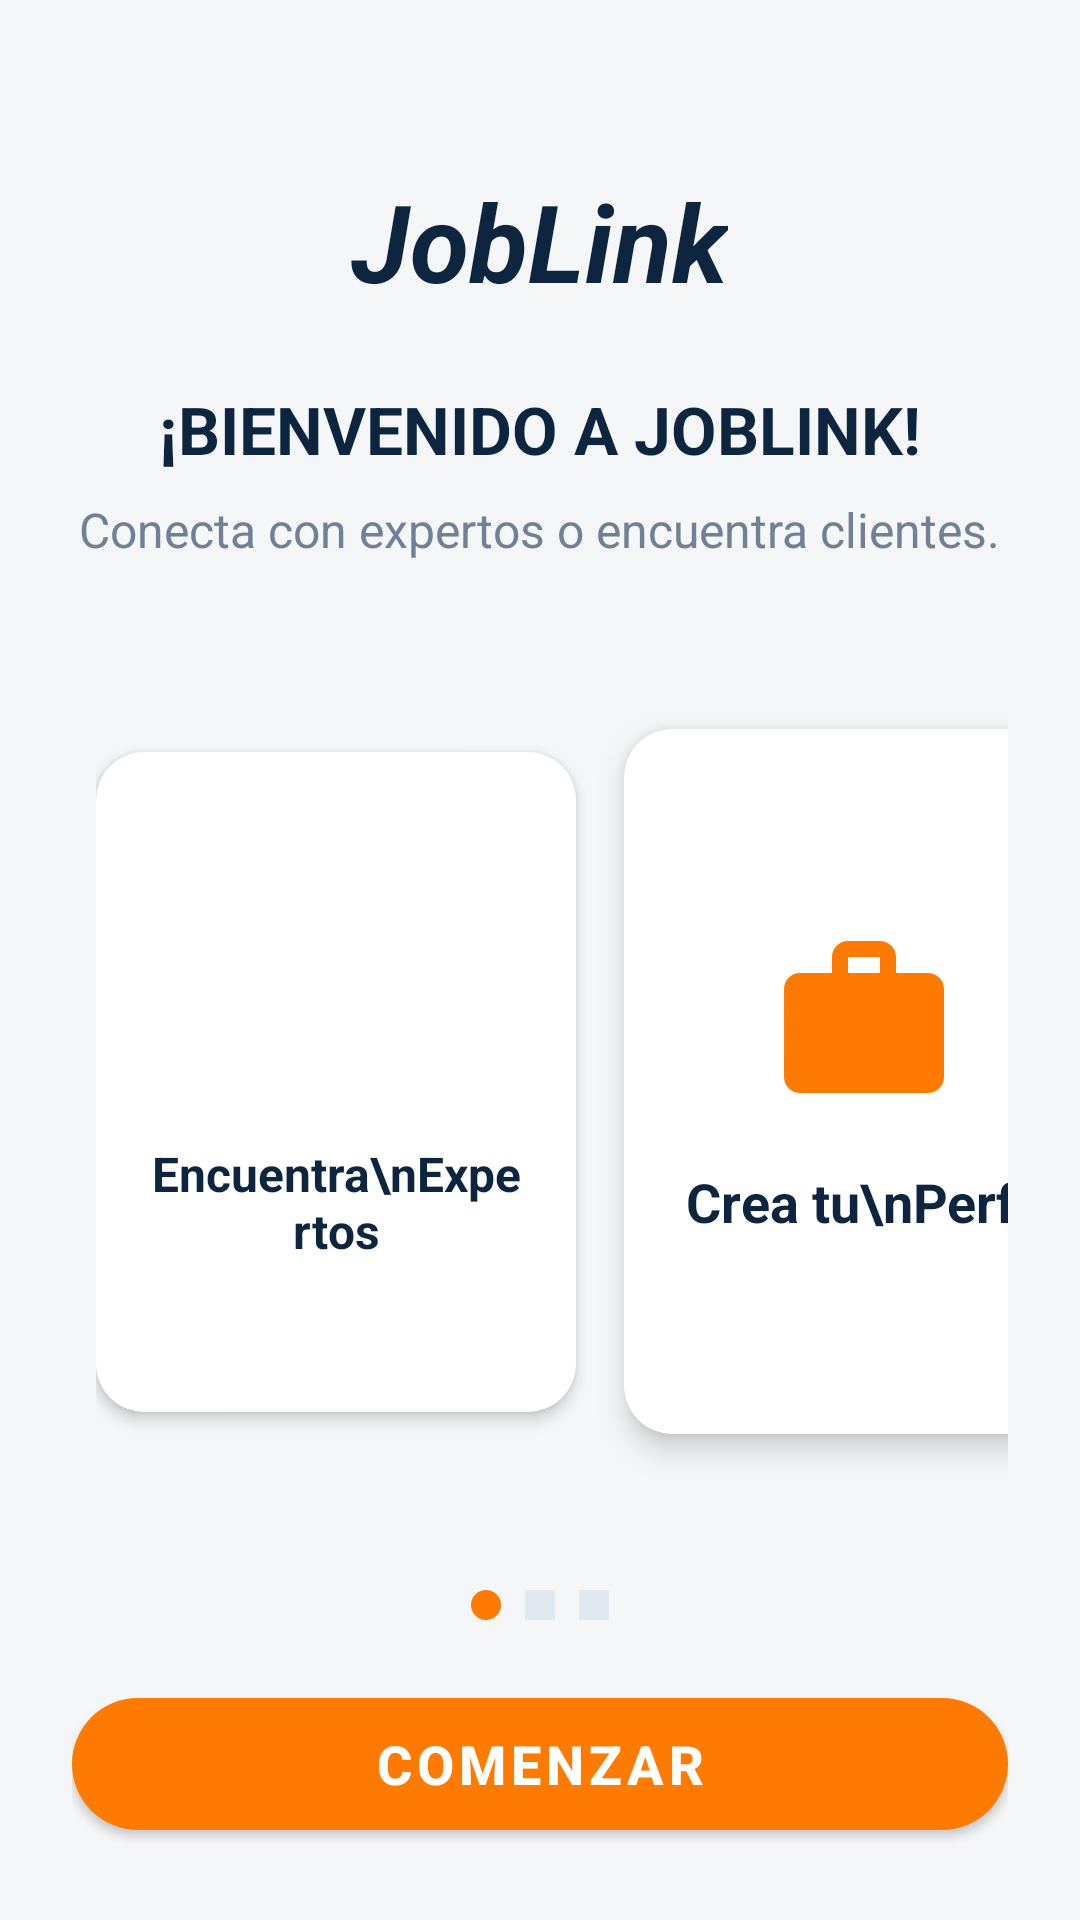

Locate icon controls on the screen. Image size 1080px x 1920px, boxes as (x1, y1, x2, y2).
briefcase: (784, 941, 944, 1093)
